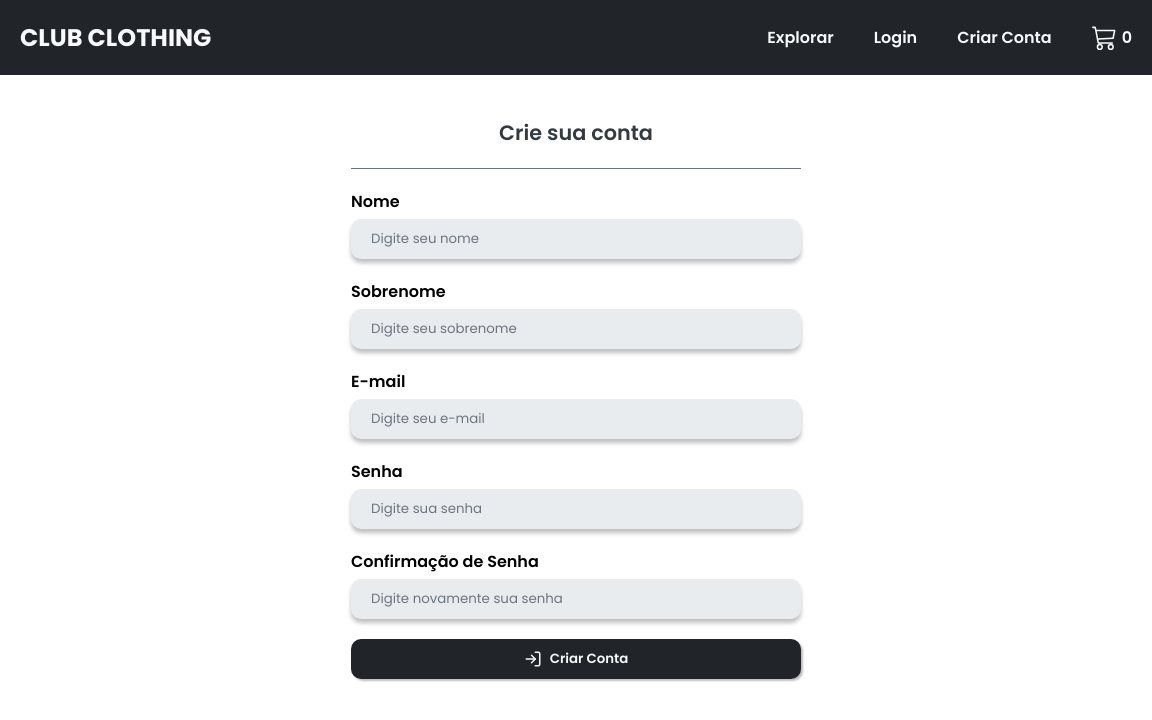
Test: Sign Up › should show error when password has less than 6 characters
Type "123" into the password field with placeholder "Digite sua senha" at (576, 508), box [351, 488, 801, 528]
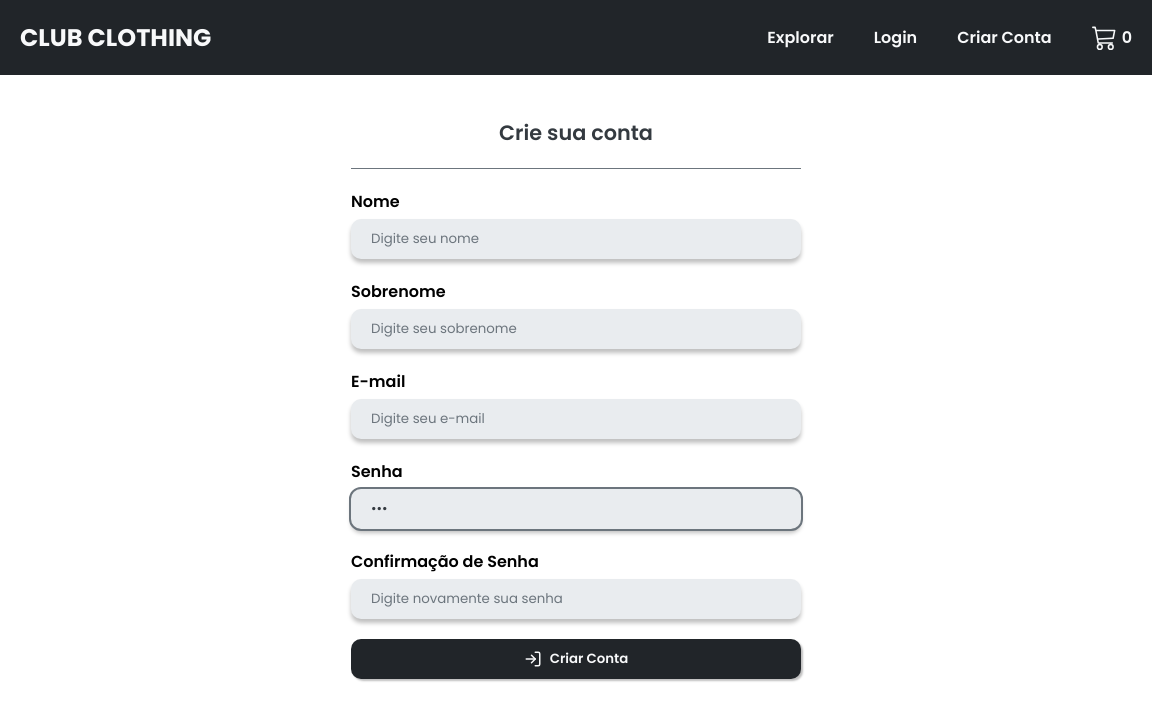
Click the button "Criar Conta" at (576, 658), box [351, 638, 801, 678]
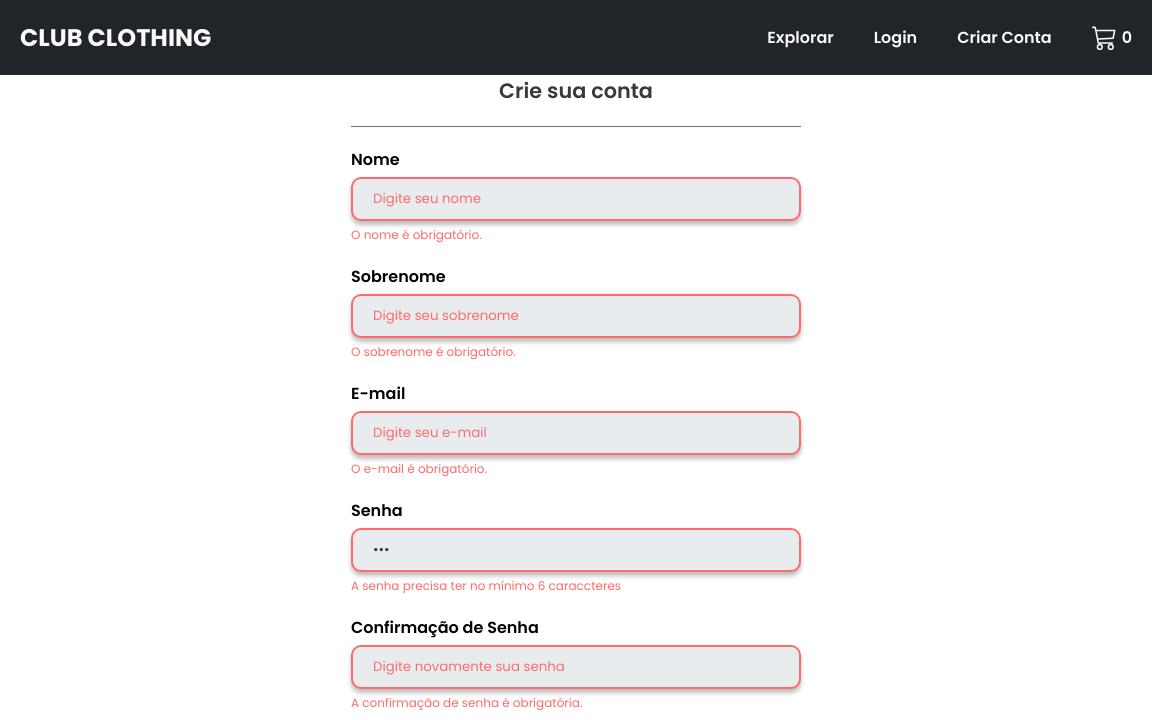
Result: the text "A senha precisa ter no mínimo 6 caraccteres" is shown at [351, 577, 621, 594]
